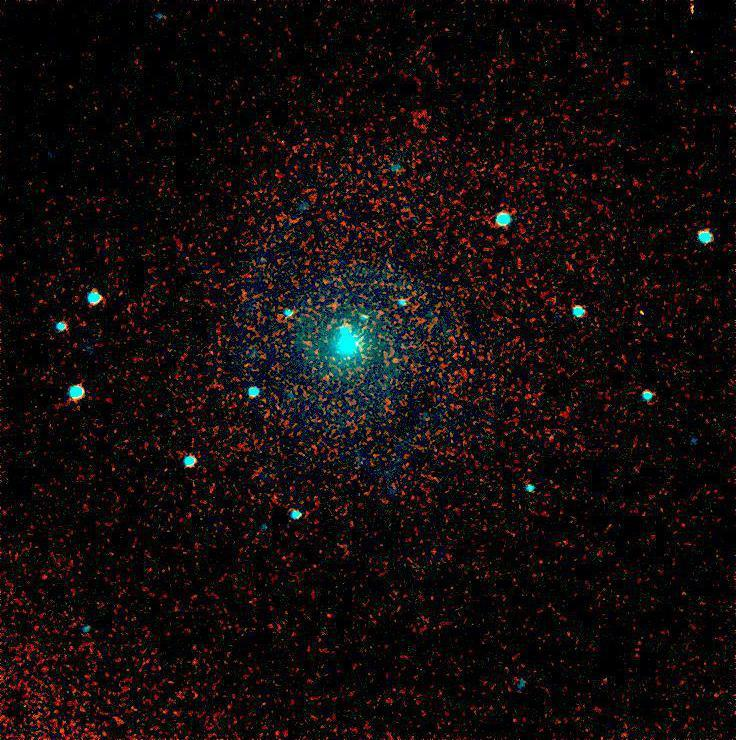star: (379, 352, 409, 382)
